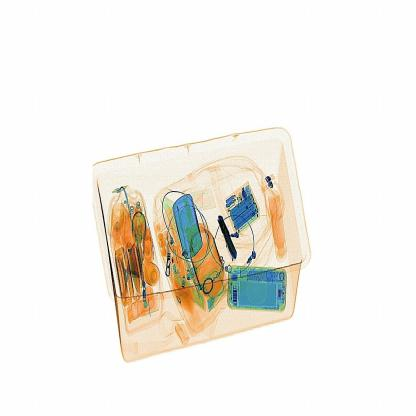knife: (210, 208, 242, 271)
